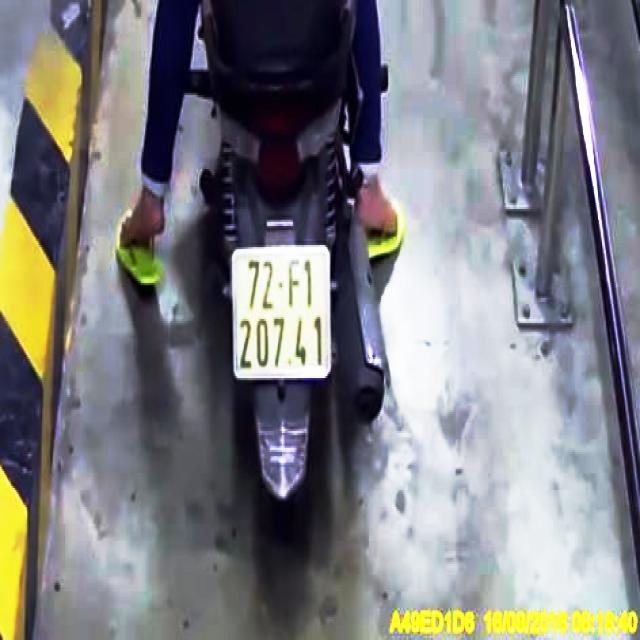license_plate: (232, 249, 328, 383)
